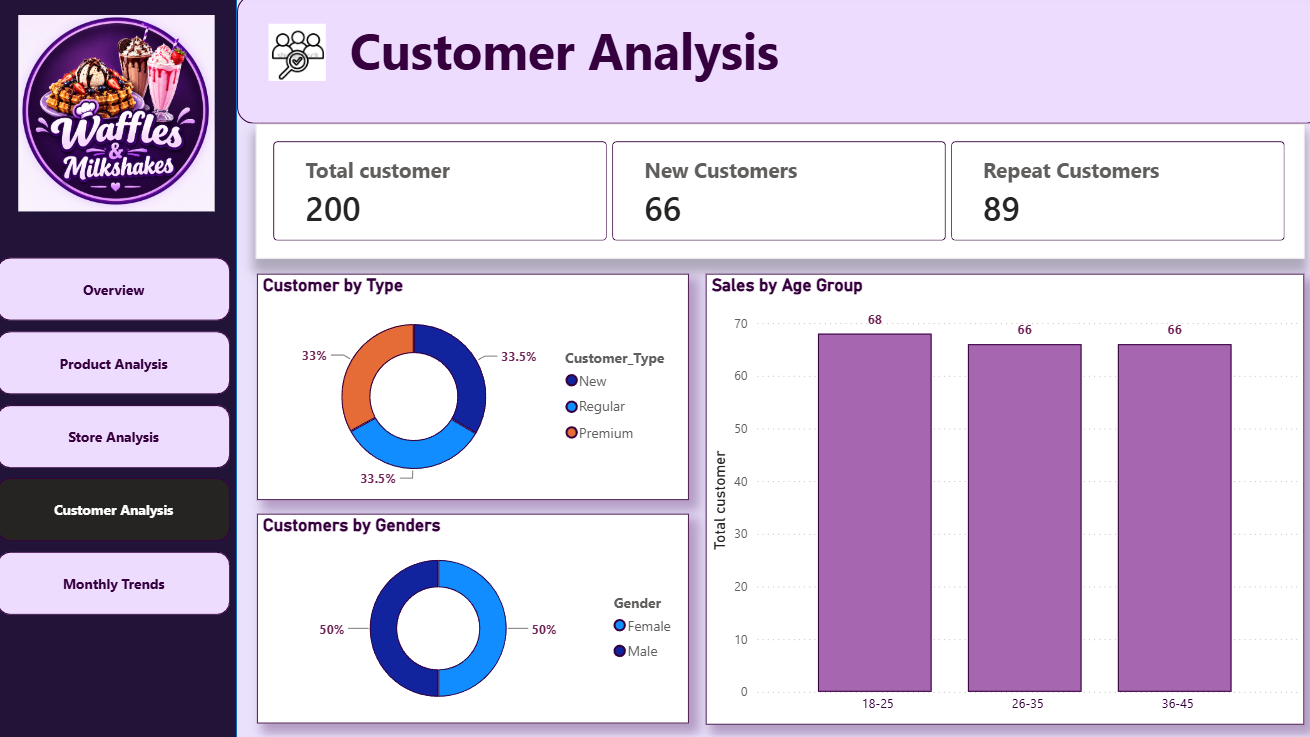

This screenshot's page, from the dashboard's own definition file:
{"tool":"powerbi","page":{"name":"Customer Analysis","canvas":[1280,720],"ordinal":3},"visuals":[{"type":"shape","box":[0,0,231.6,720.2],"z":0},{"type":"cardVisual","title":"Total Orders","fields":{"Data":["DIM_CUSTOMER.Total customer","DIM_CUSTOMER.New Customers","DIM_CUSTOMER.Repeat Customers"]},"box":[249.7,124.3,1012.2,130.3],"z":1000},{"type":"donutChart","title":"Customer by Type","fields":{"Category":["DIM_CUSTOMER.Customer_Type"],"Y":["DIM_CUSTOMER.Total customer"]},"box":[250.4,268.8,416.6,218.7],"z":2000},{"type":"clusteredColumnChart","title":"Sales by Age Group","fields":{"Y":["DIM_CUSTOMER.Total customer"],"Category":["DIM_CUSTOMER.Age_Group"]},"box":[684.1,268.8,577.8,434.9],"z":3000},{"type":"donutChart","title":"Customers by Genders","fields":{"Y":["DIM_CUSTOMER.Total customer"],"Category":["DIM_CUSTOMER.Gender"]},"box":[250.4,500.9,416.6,202.8],"z":4000},{"type":"slicer","fields":{"Values":["DIM_DATE.Full_Date"]},"box":[1017,27.7,225.6,70],"z":5000},{"type":"shape","box":[231.6,0,1048.4,124.3],"z":6000},{"type":"pageNavigator","box":[0,253.4,225.6,347.5],"z":7000},{"type":"image","box":[250.9,27.7,77.2,55.5],"z":8000},{"type":"image","box":[18.1,19.3,194.2,189.4],"z":9000}]}

Visuals, with their boxes in screenshot pixels (x1, y1, x2, y2), scaled from the page's 1280x720 canvas onto the 1310x737 screenshot:
shape: box=[0, 0, 237, 736]
"Total Orders" cardVisual: box=[256, 127, 1291, 261]
"Customer by Type" donutChart: box=[256, 275, 683, 499]
"Sales by Age Group" clusteredColumnChart: box=[700, 275, 1291, 720]
"Customers by Genders" donutChart: box=[256, 513, 683, 720]
slicer - DIM_DATE.Full_Date: box=[1041, 28, 1272, 100]
shape: box=[237, 0, 1309, 127]
pageNavigator: box=[0, 259, 231, 615]
image: box=[257, 28, 336, 85]
image: box=[19, 20, 217, 214]
